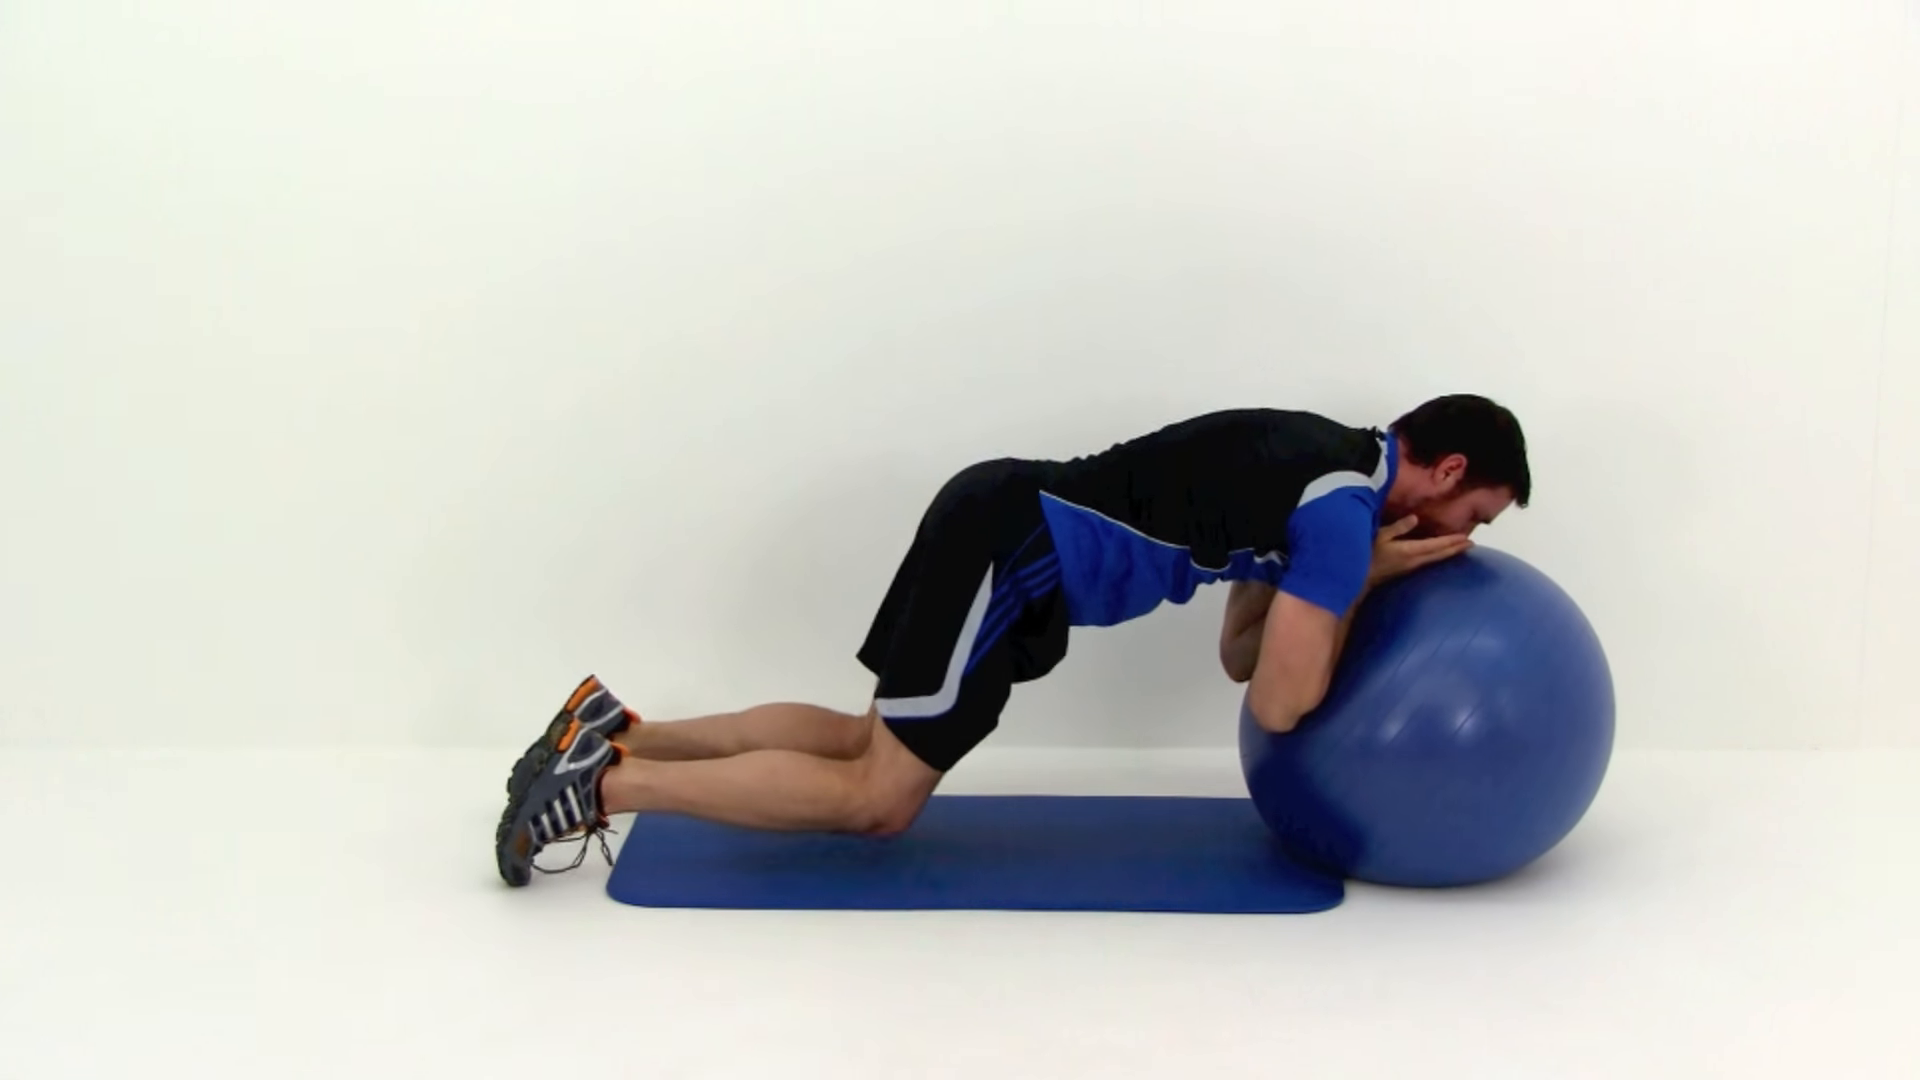yogaball: (1226, 546, 1633, 895)
